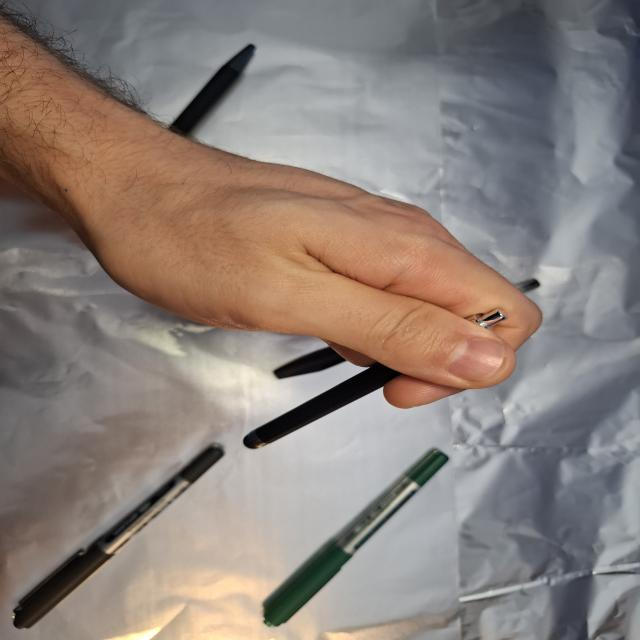glove_off: (71, 131, 546, 411)
